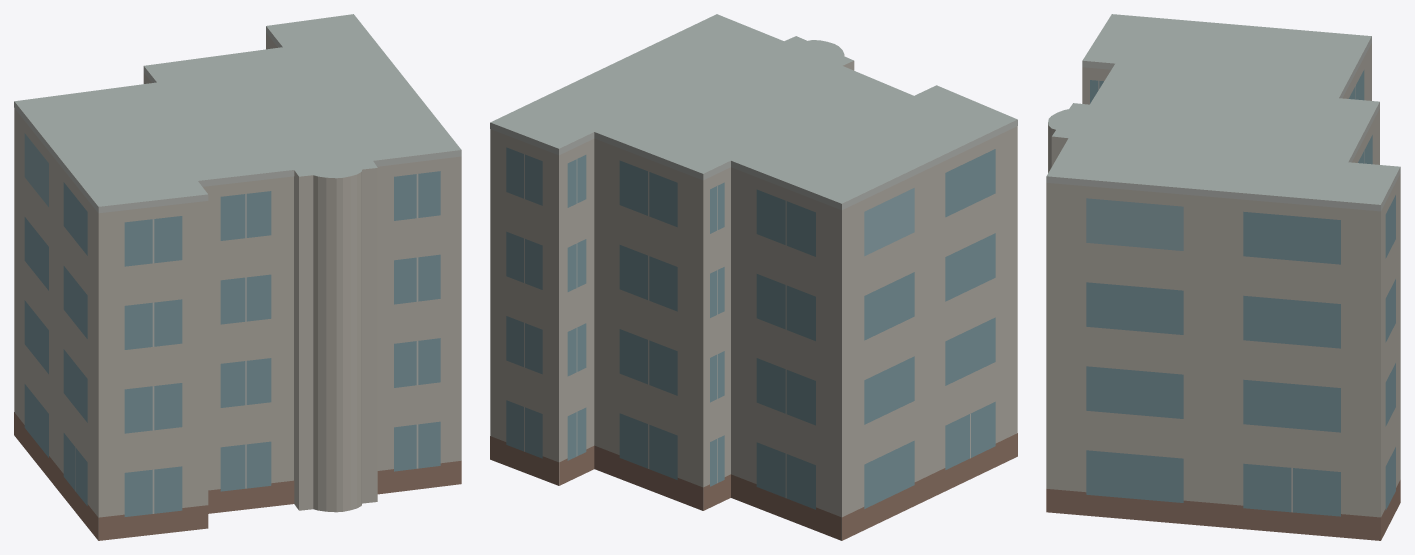
File: survey-upis-32807287.glb
3 renders of one model, left to right at view 1: azimuth 30°, elevation 25°; view 2: azimuth 150°, elevation 25°; view 3: azimuth 270°, elevation 25°, orthographic.
Parts seen in each view (by area): view 1: survey-upis-32807287.tmp; view 2: survey-upis-32807287.tmp; view 3: survey-upis-32807287.tmp.
Part boxes in pixels (x1,y1,x2,y2): survey-upis-32807287.tmp: (14,14,461,540); survey-upis-32807287.tmp: (490,14,1017,540); survey-upis-32807287.tmp: (1046,14,1400,540).
Bounding box in the file's own units: 15.37 × 12.6 × 12.05.
